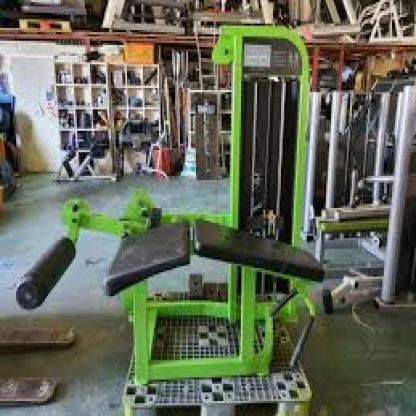reg curl machine: (15, 25, 322, 381)
